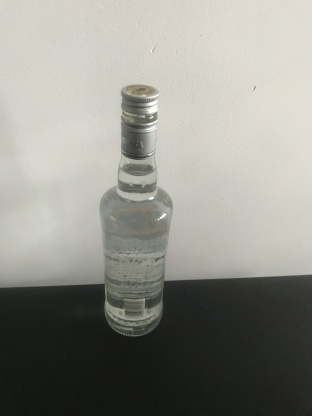nakretka: (119, 83, 160, 161)
